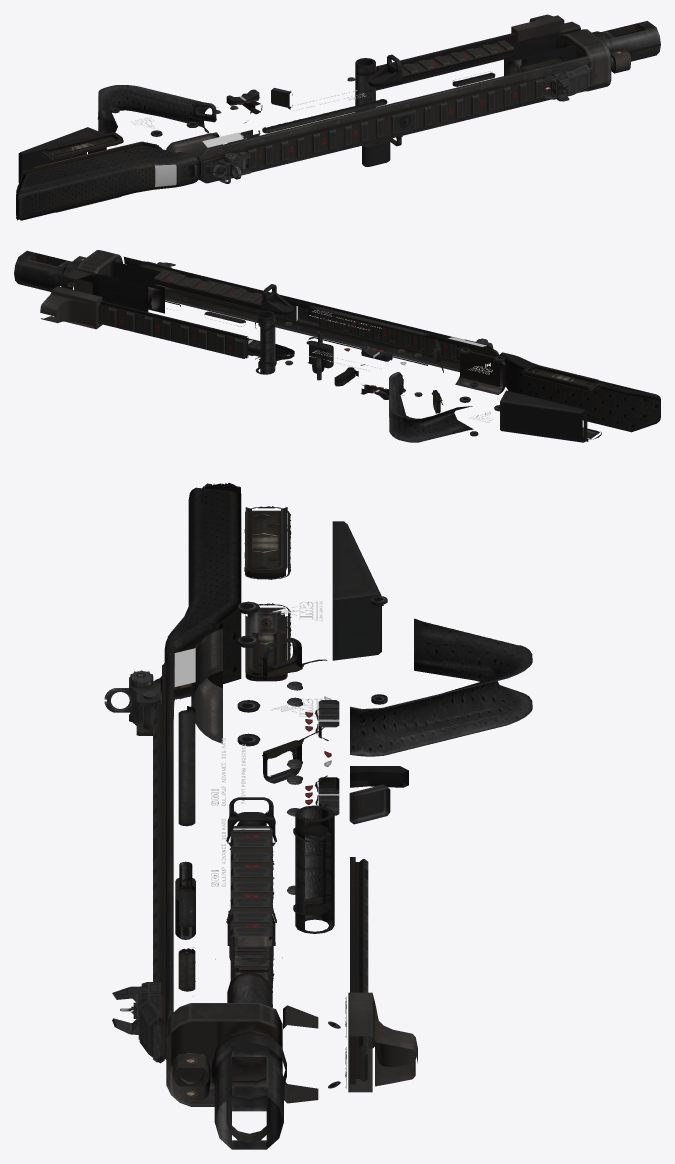
The model's file is t6_wpn_ar_saritch_view_LOD0.obj.
3 views of the same model, one above another, from view 1: azimuth 30°, elevation 25°; view 2: azimuth 150°, elevation 25°; view 3: azimuth 270°, elevation 25° (orthographic). The views are drawn at different scales.
Visible parts, largest first — view 1: mtl_t6_wpn_ar_saritch, mtl_t6_wpn_ar_saritch_camo3, mtl_t6_wpn_ar_saritch_camo1, mtl_t6_wpn_ar_saritch_camo2, mtl_player_icon; view 2: mtl_t6_wpn_ar_saritch, mtl_t6_wpn_ar_saritch_camo1, mtl_t6_wpn_ar_saritch_camo2, mtl_t6_wpn_ar_saritch_camo3; view 3: mtl_t6_wpn_ar_saritch, mtl_t6_wpn_ar_saritch_camo3, mtl_t6_wpn_ar_saritch_camo2, mtl_t6_wpn_ar_saritch_camo1.
Part boxes in pixels (x1=…): mtl_t6_wpn_ar_saritch: x1=16, y1=35, x2=590, y2=220; mtl_t6_wpn_ar_saritch_camo3: x1=97, y1=14, x2=592, y2=177; mtl_t6_wpn_ar_saritch_camo1: x1=16, y1=21, x2=645, y2=220; mtl_t6_wpn_ar_saritch_camo2: x1=19, y1=21, x2=660, y2=173; mtl_player_icon: x1=155, y1=164, x2=176, y2=186; mtl_t6_wpn_ar_saritch: x1=100, y1=256, x2=660, y2=442; mtl_t6_wpn_ar_saritch_camo1: x1=28, y1=253, x2=598, y2=441; mtl_t6_wpn_ar_saritch_camo2: x1=14, y1=250, x2=601, y2=442; mtl_t6_wpn_ar_saritch_camo3: x1=40, y1=270, x2=496, y2=442; mtl_t6_wpn_ar_saritch: x1=104, y1=487, x2=532, y2=1063; mtl_t6_wpn_ar_saritch_camo3: x1=153, y1=618, x2=530, y2=1092; mtl_t6_wpn_ar_saritch_camo2: x1=166, y1=506, x2=387, y2=1149; mtl_t6_wpn_ar_saritch_camo1: x1=152, y1=482, x2=408, y2=1142.
Size of the model in its own units: 76.48 by 9.65 by 24.66.
